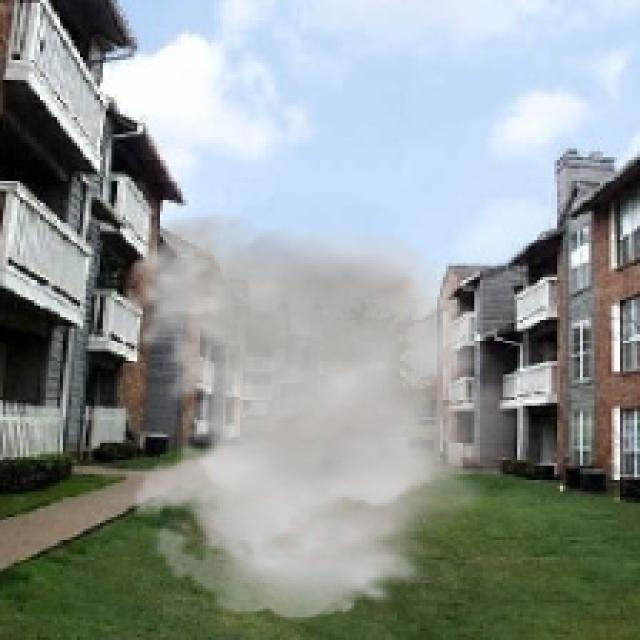Smoke: (117, 211, 540, 620)
